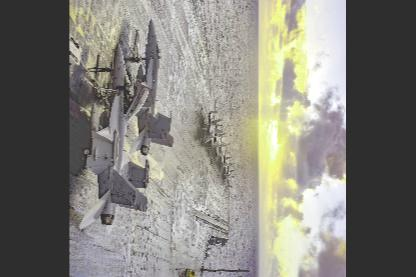F15: (80, 42, 150, 234), (130, 18, 173, 164), (202, 110, 223, 146), (209, 123, 228, 155), (214, 135, 231, 163), (219, 148, 234, 173), (224, 162, 237, 185)
